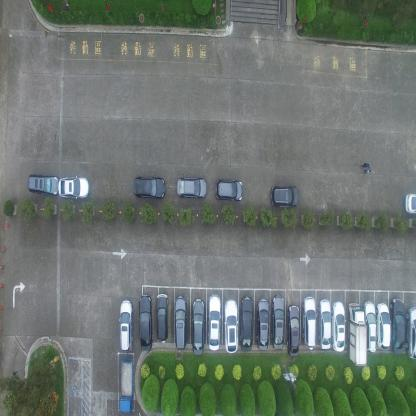car: (348, 302, 368, 367), (390, 297, 406, 357), (118, 356, 134, 414), (57, 172, 90, 200), (223, 298, 239, 354), (190, 297, 205, 356), (207, 293, 222, 351), (138, 294, 153, 352), (302, 294, 317, 352), (118, 297, 134, 351), (240, 294, 254, 354), (270, 294, 285, 350), (256, 297, 271, 352), (132, 174, 166, 198), (270, 183, 300, 210), (173, 294, 187, 351), (286, 303, 300, 359), (375, 302, 391, 351), (331, 301, 346, 353), (362, 299, 376, 354), (177, 175, 208, 199), (155, 291, 169, 343), (29, 171, 58, 196), (214, 176, 244, 200), (318, 298, 331, 350), (406, 305, 416, 358), (404, 190, 416, 216)
